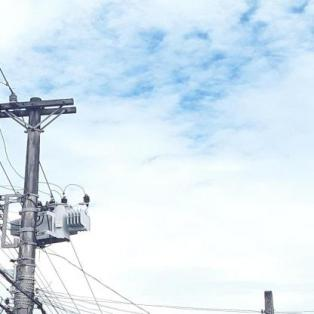Poste: (0, 83, 57, 314)
